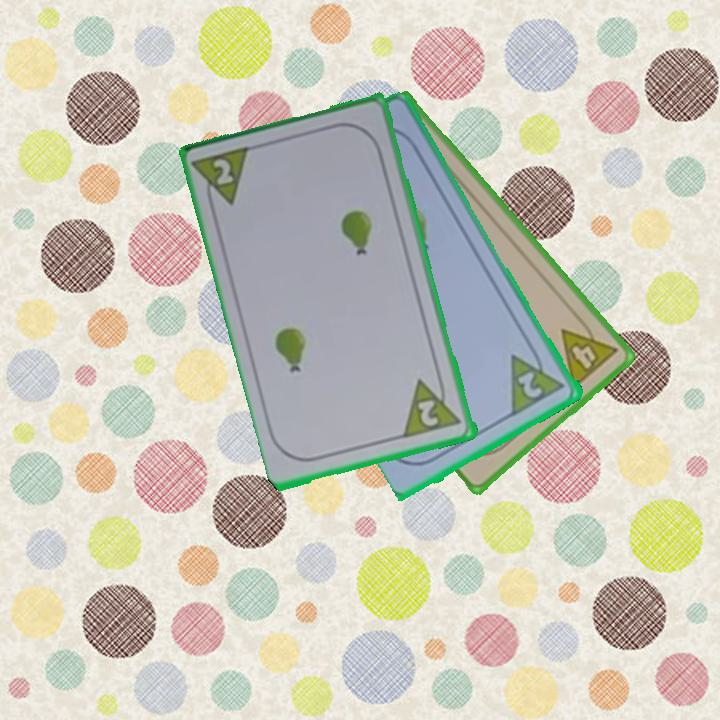2p: (507, 341, 569, 418), (191, 142, 255, 215), (414, 396, 442, 430)
4p: (557, 312, 621, 392)
